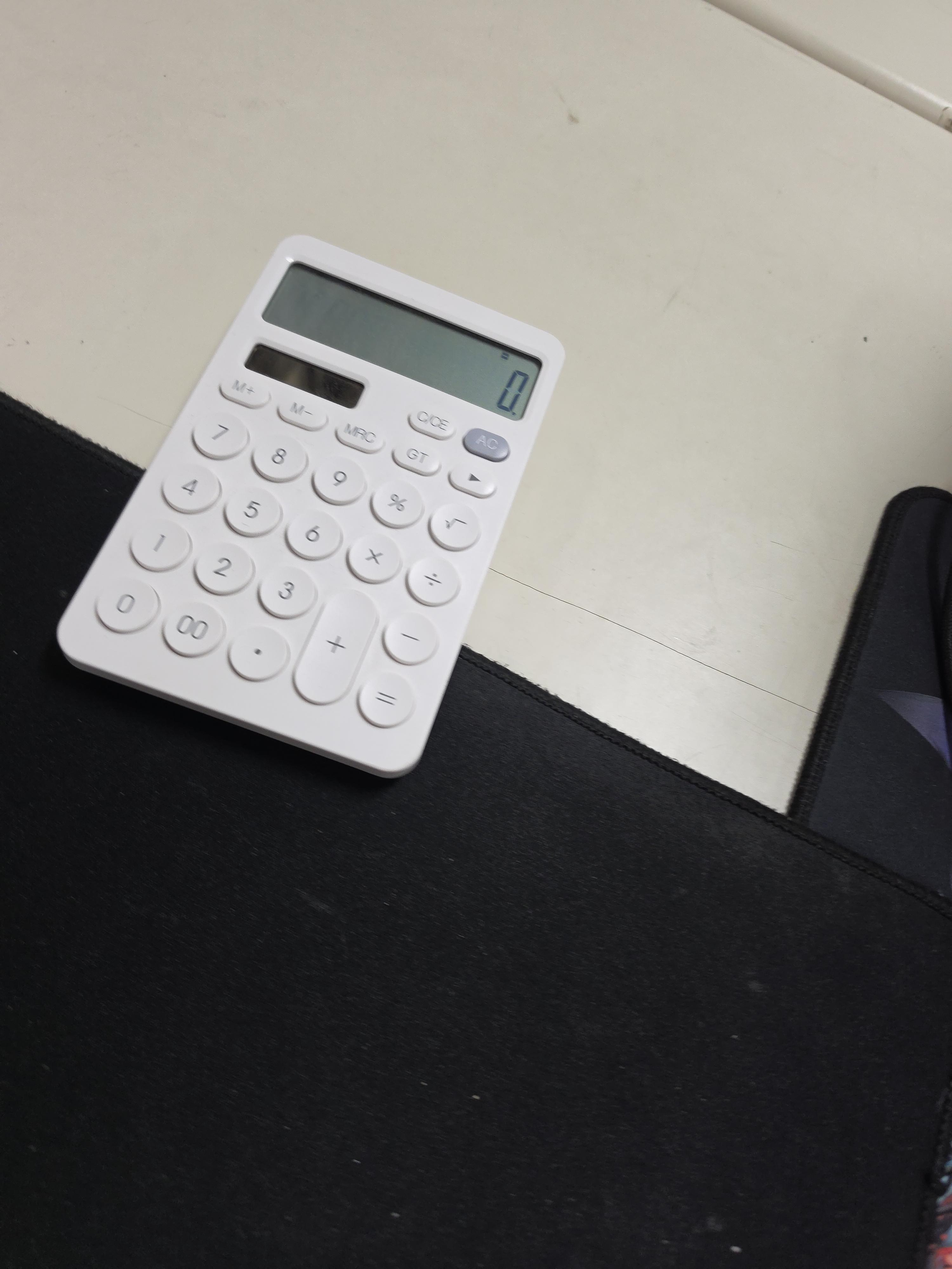calculator: (57, 235, 566, 779)
